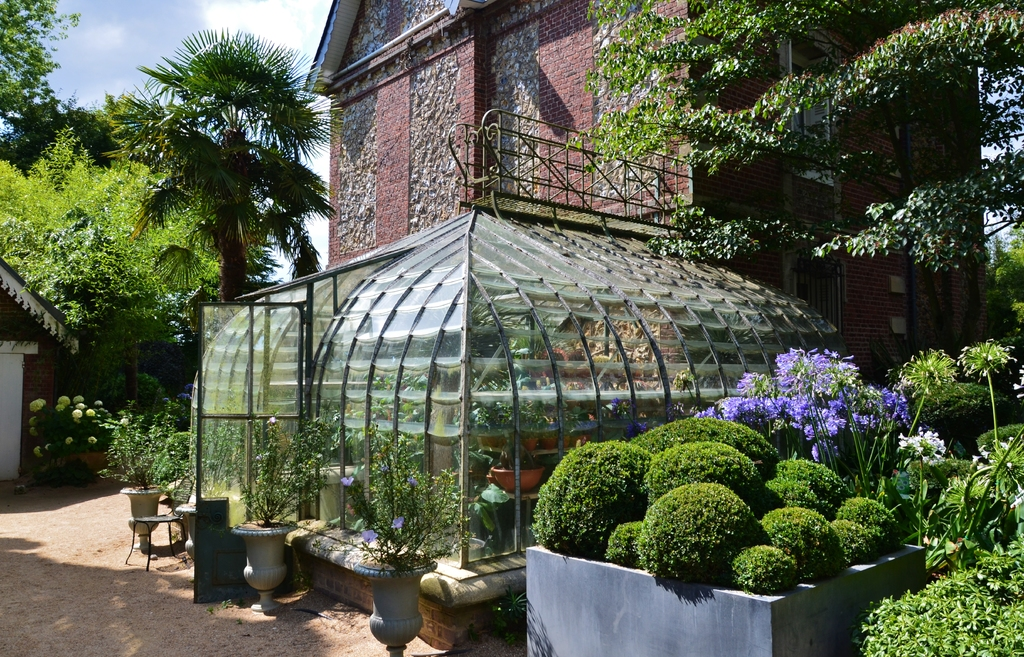Tree: (0, 0, 1024, 406)
